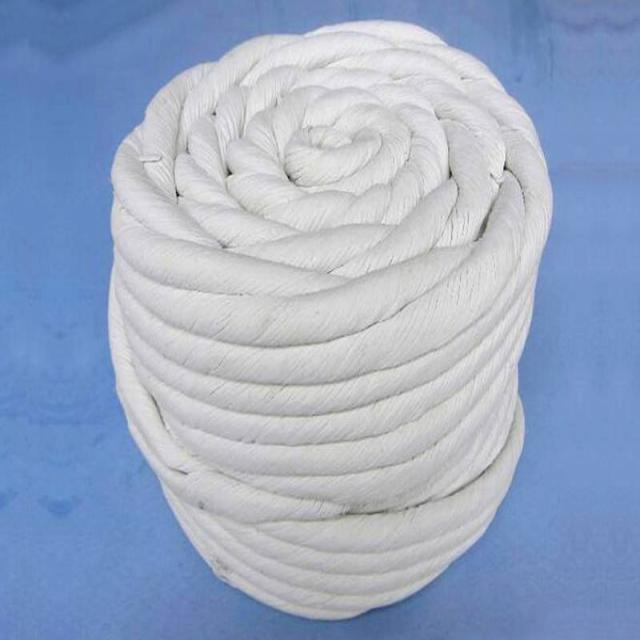Rope: (102, 0, 554, 623)
